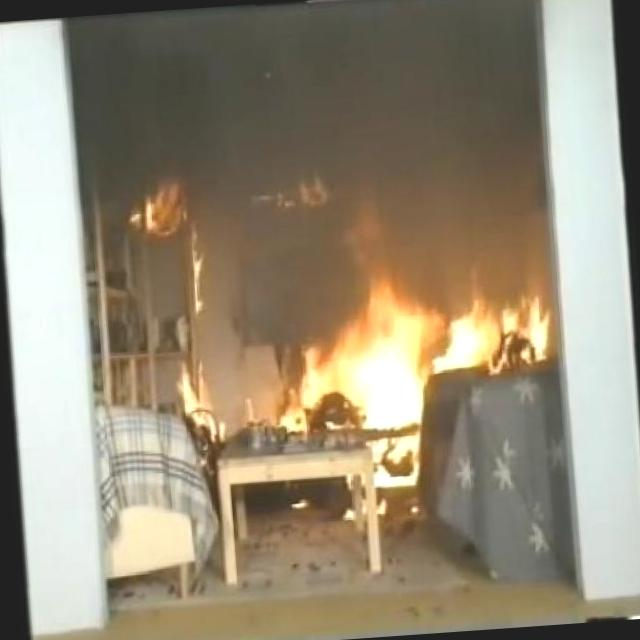fire: (272, 248, 570, 507)
